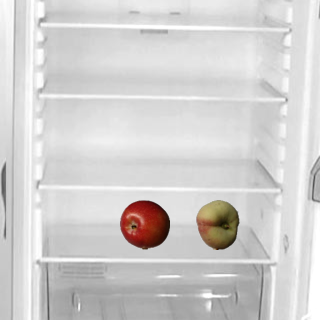Apple Braeburn: (119, 199, 169, 249)
Peach Flat: (192, 199, 242, 249)
